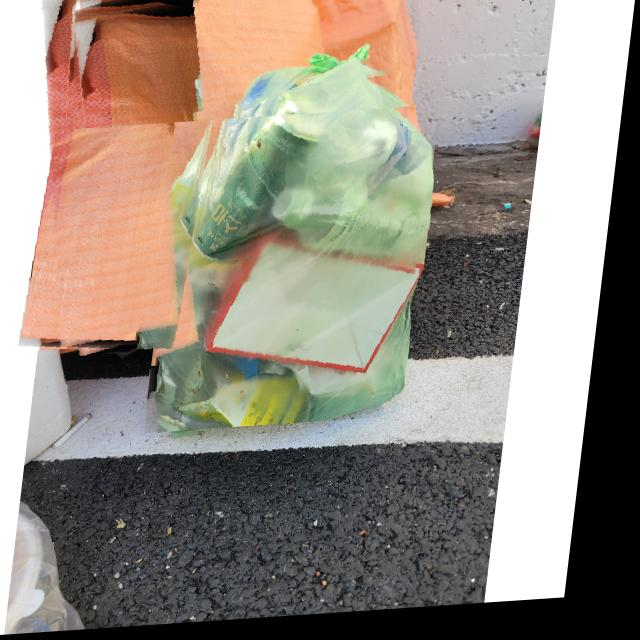general_trashbag: (154, 66, 450, 435)
other_trashbag: (42, 0, 190, 350), (74, 0, 421, 130)
